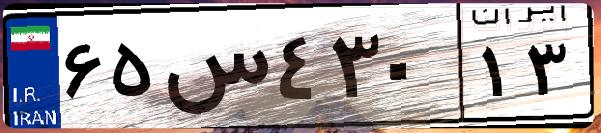0: (385, 28, 445, 110)
1: (475, 38, 525, 113)
3: (330, 28, 385, 110), (525, 38, 570, 115)
4: (270, 28, 330, 110)
5: (110, 28, 158, 98)
6: (57, 26, 110, 100)
س: (158, 20, 270, 120)
